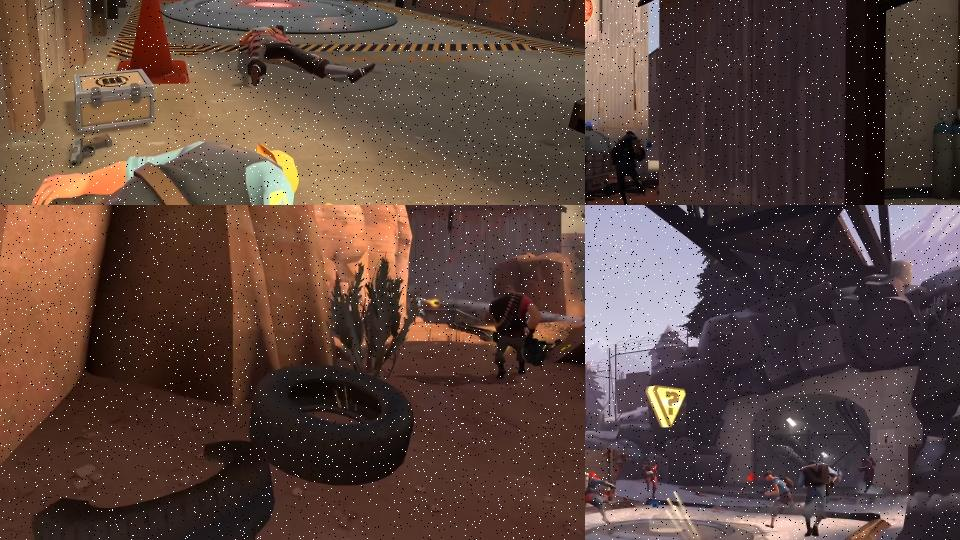Enemy: (0, 136, 363, 205), (242, 22, 372, 86), (481, 283, 552, 392), (608, 129, 653, 205), (797, 462, 841, 537), (758, 470, 805, 529), (585, 471, 615, 522), (859, 457, 878, 494), (643, 459, 659, 499)
